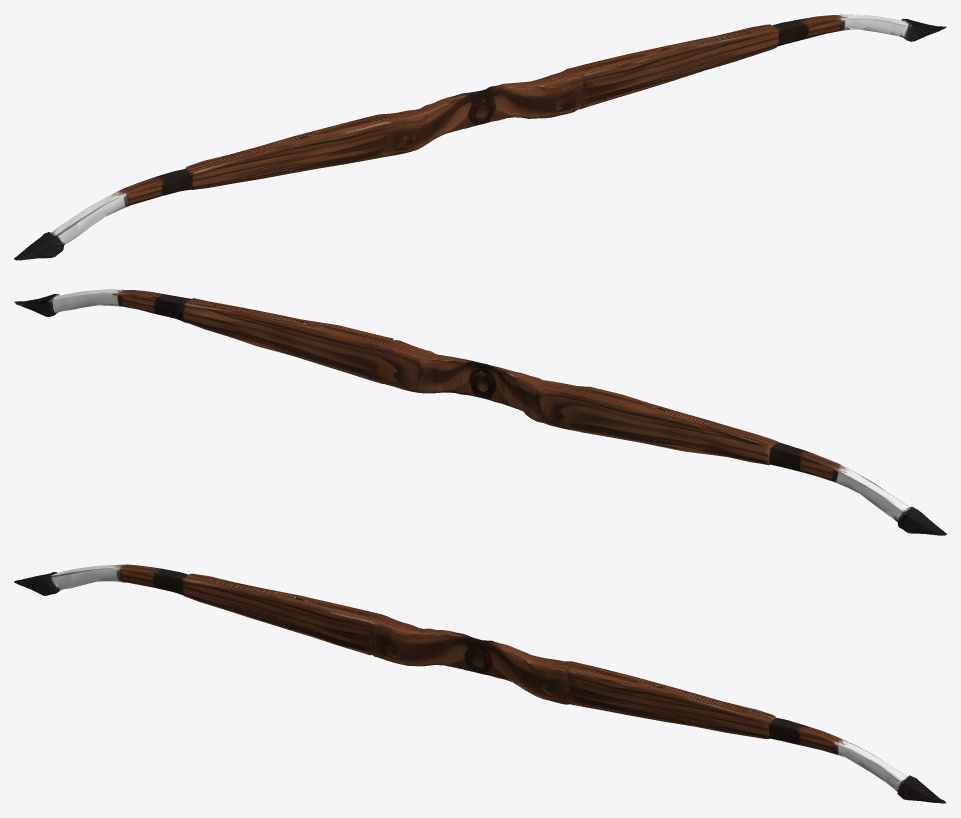
The model's file is p5w-b0-hunter-bow.glb.
3 renders of one model, top to bottom at view 1: azimuth 30°, elevation 25°; view 2: azimuth 150°, elevation 25°; view 3: azimuth 330°, elevation 25°, orthographic.
Bounding box in the file's own units: 0.9575 × 0.059 × 0.024.
1 material, 1 textured.
